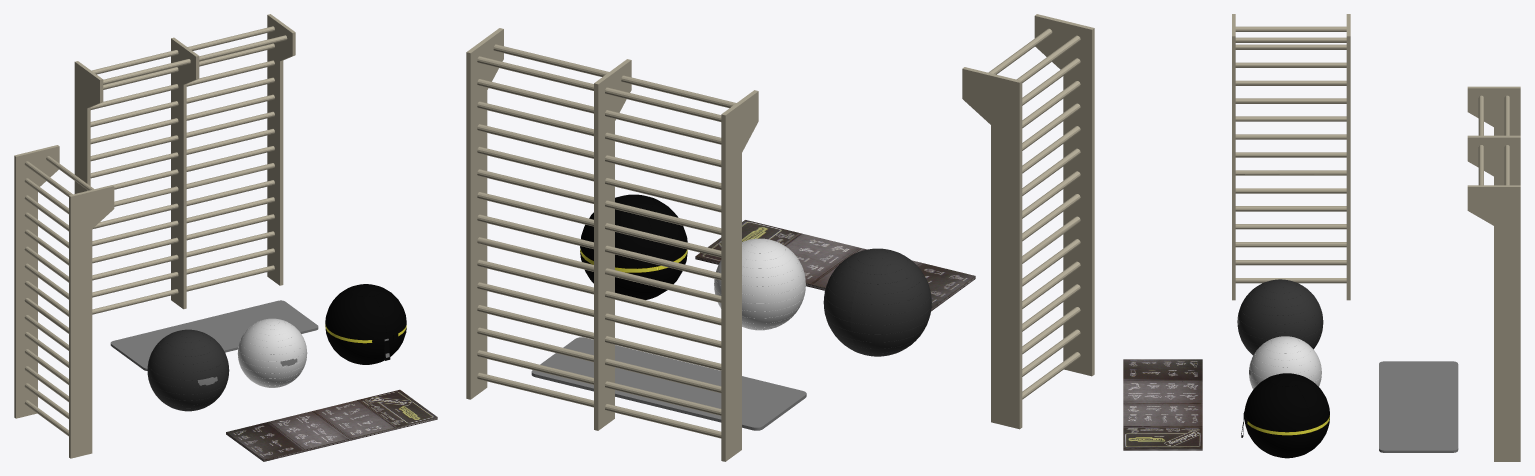
The model's file is fbx TG tools.FBX.
The picture shows the model from 3 angles, left to right: view 1: azimuth 30°, elevation 25°; view 2: azimuth 150°, elevation 25°; view 3: azimuth 270°, elevation 25°; orthographic projection. The views are drawn at different scales.
Parts seen in each view (by area): view 1: Wood Wall 180 cm, Wood Wall 90 cm, TG_Pad, Sphere012, Sphere01, TG_Pad Kinesis, Sphere010; view 2: Wood Wall 180 cm, Wood Wall 90 cm, Sphere012, TG_Pad Kinesis, Sphere010, Sphere01, TG_Pad; view 3: Wood Wall 180 cm, Wood Wall 90 cm, TG_Pad, TG_Pad Kinesis, Sphere01, Sphere012, Sphere010.
Boxes of the visible parts, x1,y1,x2,y2 form: Wood Wall 180 cm: (74,14,295,314); Wood Wall 90 cm: (14,145,114,458); TG_Pad: (226,389,437,461); Sphere012: (147,329,229,411); Sphere01: (325,284,406,364); TG_Pad Kinesis: (110,300,318,370); Sphere010: (237,318,307,387); Wood Wall 180 cm: (466,28,758,461); Wood Wall 90 cm: (962,14,1094,429); Sphere012: (823,248,931,356); TG_Pad Kinesis: (531,337,806,430); Sphere010: (714,238,805,330); Sphere01: (580,194,687,299); TG_Pad: (695,220,975,311); Wood Wall 180 cm: (1467,86,1520,461); Wood Wall 90 cm: (1232,14,1350,300); TG_Pad: (1123,359,1202,450); TG_Pad Kinesis: (1379,361,1458,452); Sphere01: (1244,373,1329,458); Sphere012: (1237,279,1323,355); Sphere010: (1249,336,1321,389).
Bounding box in the file's own units: 3282 × 2302 × 3009.
13 materials, 1 textured.
